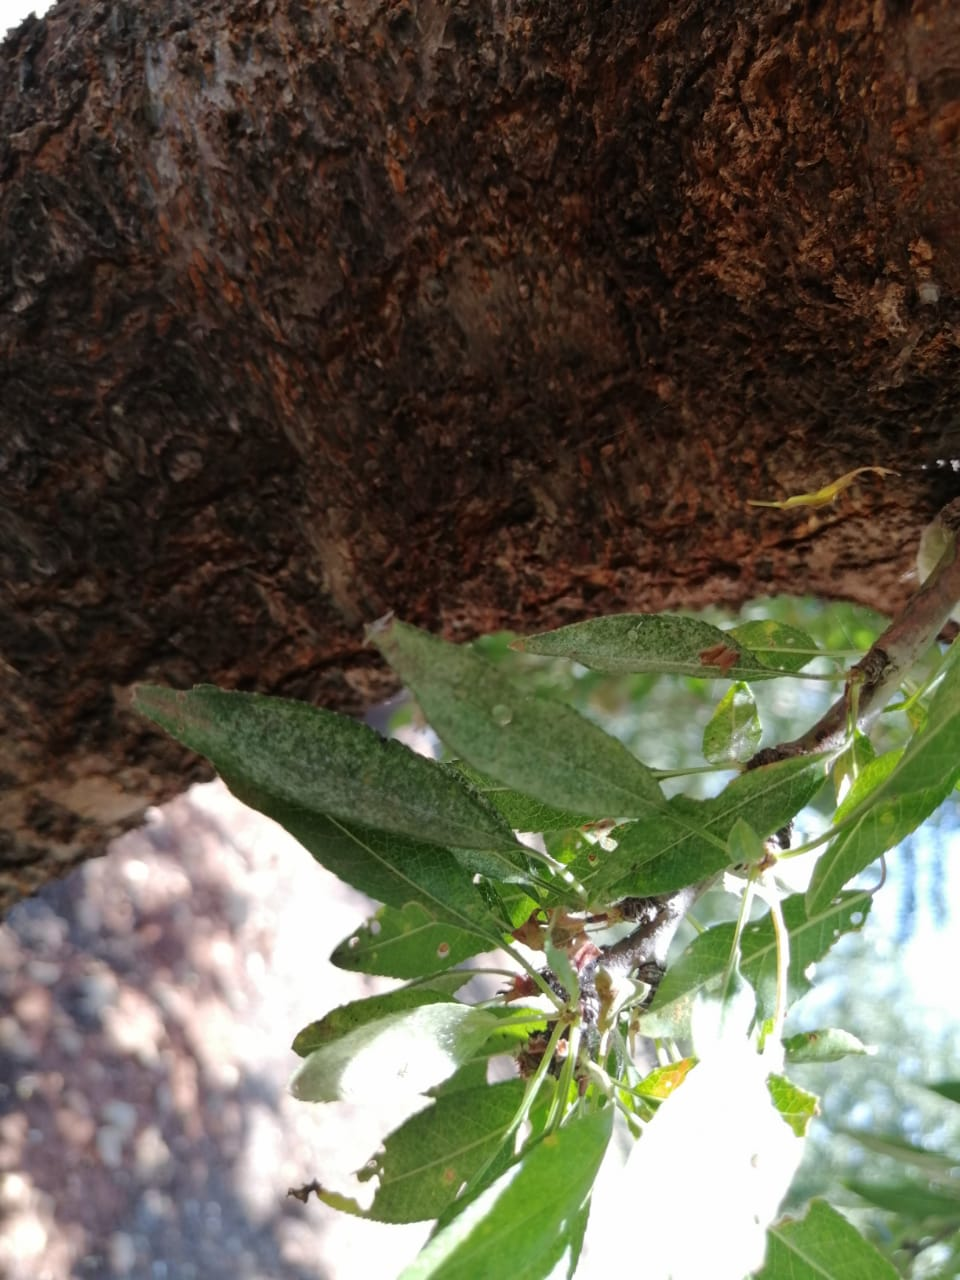acariens: (125, 680, 530, 853), (368, 614, 683, 830)
